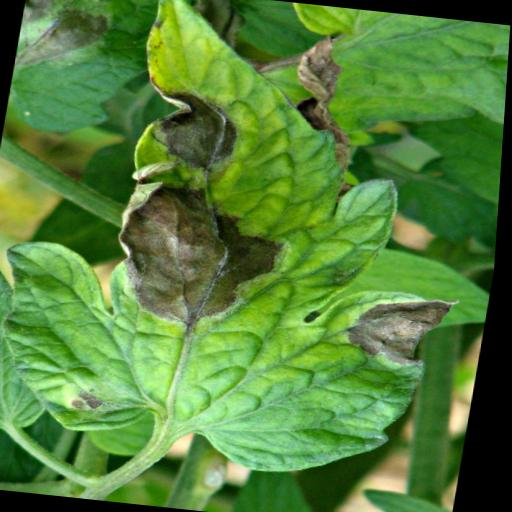Late Blight: (0, 0, 500, 500)
